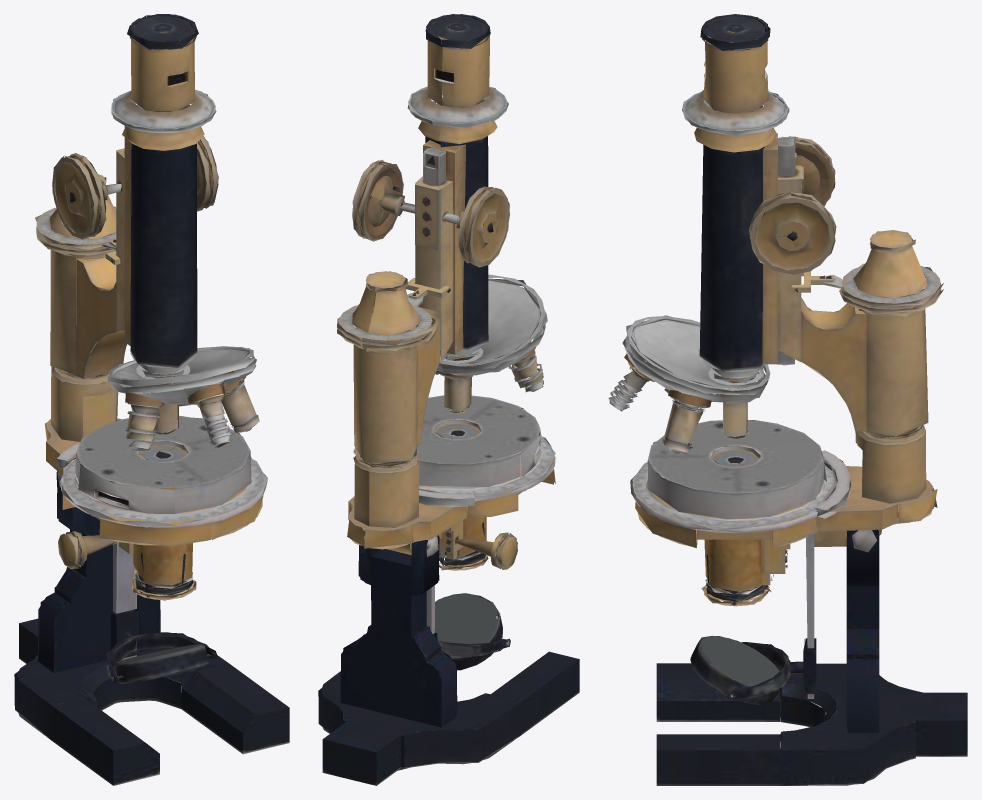
The model's file is x_microscope.gltf.
3 renders of one model, left to right at view 1: azimuth 30°, elevation 25°; view 2: azimuth 150°, elevation 25°; view 3: azimuth 270°, elevation 25°, orthographic. The views are drawn at different scales.
Parts seen in each view (by area): view 1: x_microscope; view 2: x_microscope; view 3: x_microscope.
Part boxes in pixels (x1,y1,x2,y2): x_microscope: [14, 14, 289, 785]; x_microscope: [318, 14, 579, 785]; x_microscope: [608, 14, 967, 785].
Size of the model in its own units: 0.106 by 0.3996 by 0.1821.
Materials: 2 (2 with a texture image).
